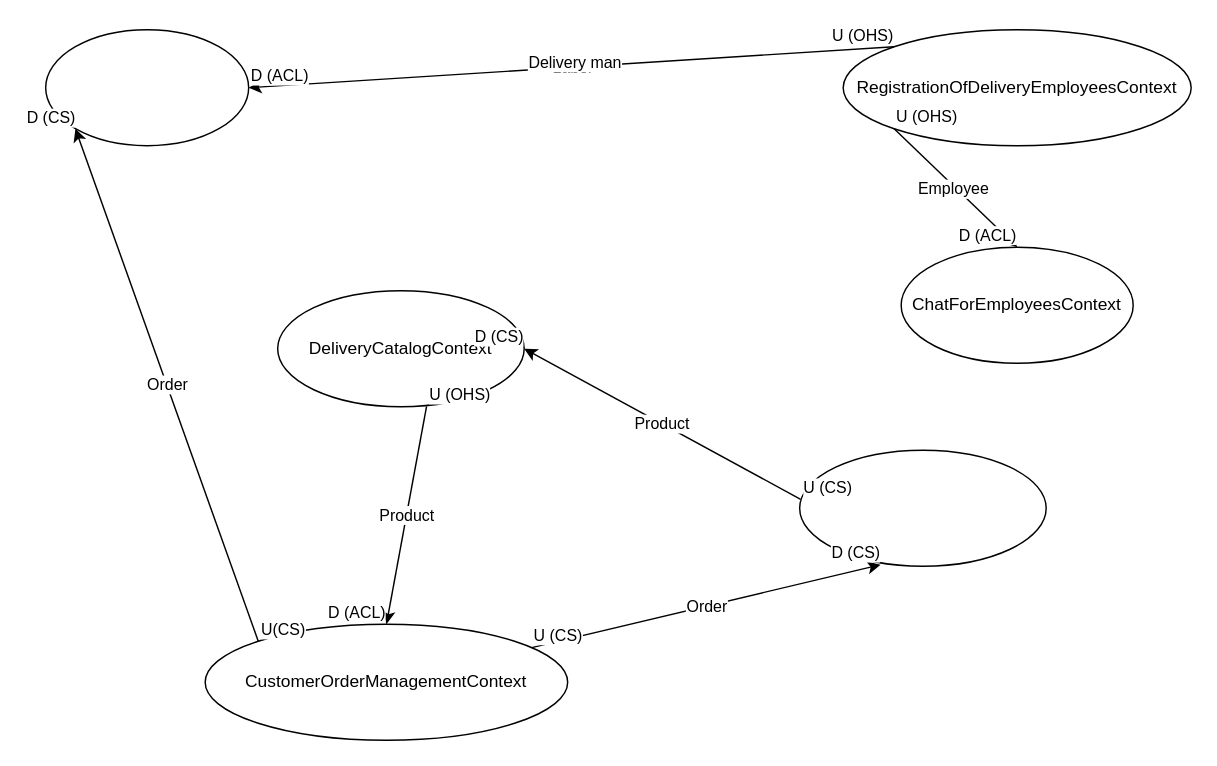
The diagram is 1217 pixels wide and 766 high, and some of its shapes have lost their labels. The shapes that lost their labels are listed below. From the top down, each one's centre as x and y in pixels, then its label:
point 146,87: DeliveryRouteContext
point 922,507: WarehouseLogisticsContext
